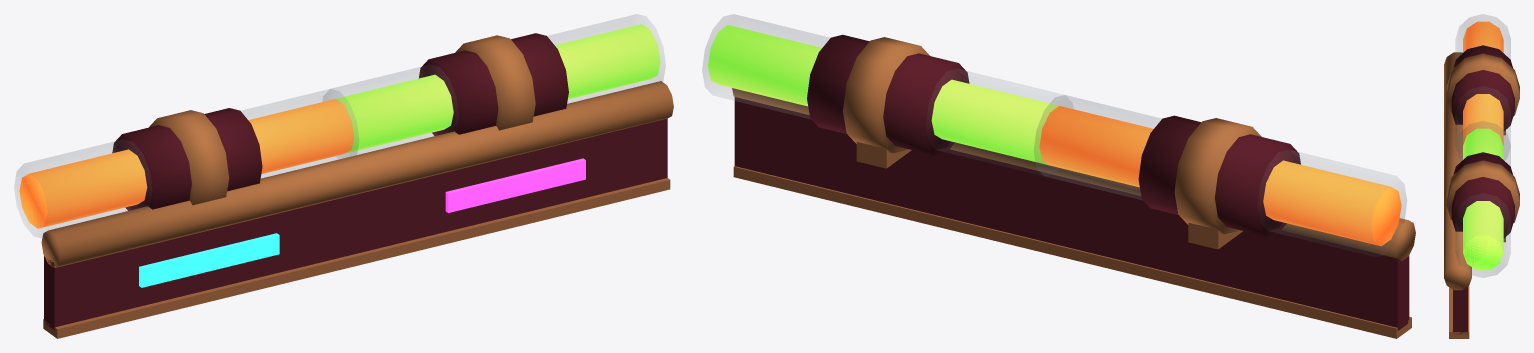
File: Deck_S_Frag_girder_l.glb
3 renders of one model, left to right at view 1: azimuth 30°, elevation 25°; view 2: azimuth 150°, elevation 25°; view 3: azimuth 270°, elevation 25°, orthographic. The views are drawn at different scales.
Parts seen in each view (by area): view 1: CP_Deck_S_Frag_girder_l; view 2: CP_Deck_S_Frag_girder_l; view 3: CP_Deck_S_Frag_girder_l.
Part boxes in pixels (<box>): CP_Deck_S_Frag_girder_l: <box>14,14,673,338</box>; CP_Deck_S_Frag_girder_l: <box>702,14,1415,338</box>; CP_Deck_S_Frag_girder_l: <box>1444,14,1519,338</box>.
Bounding box in the file's own units: 4 × 1.04 × 0.6.
